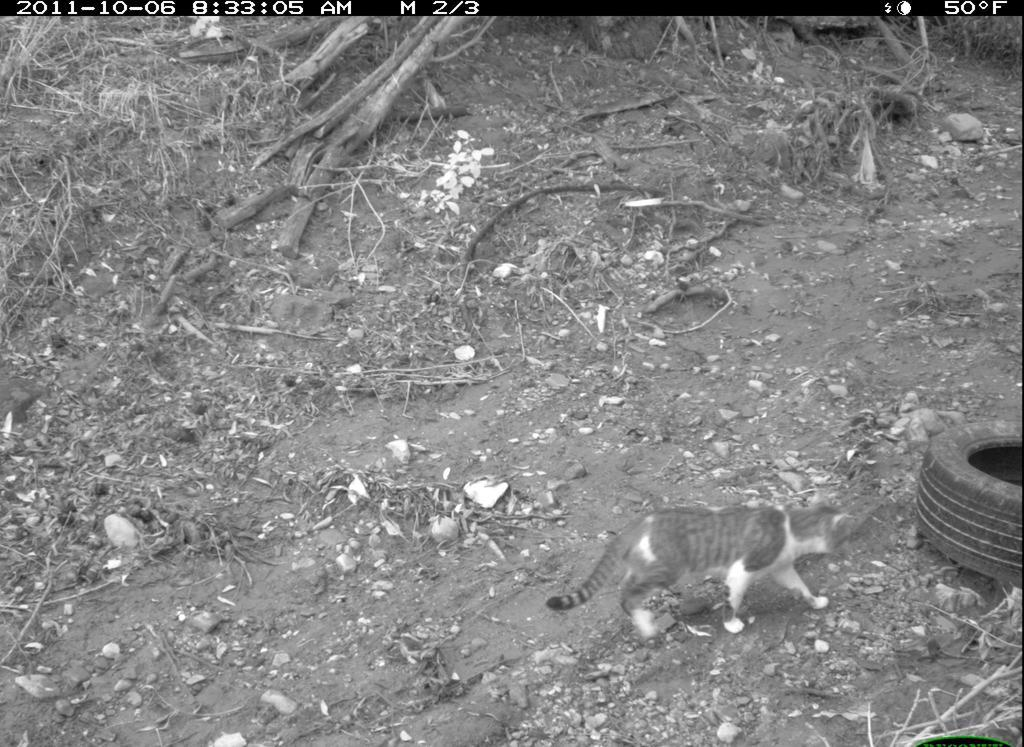cat: (539, 484, 866, 646)
